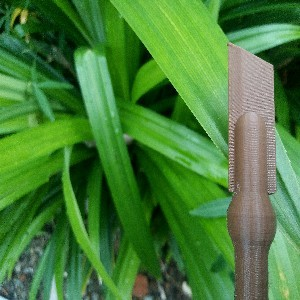cutter: (225, 40, 278, 300)
